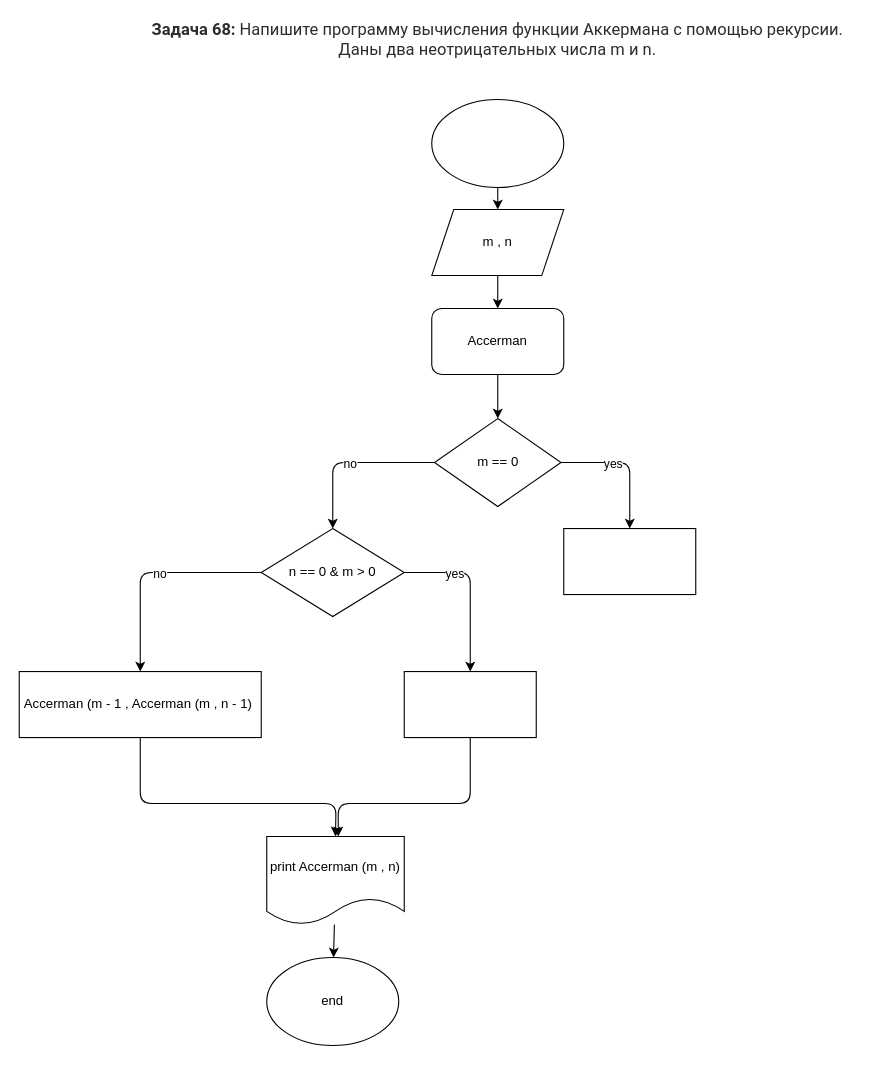
This 875x1065 diagram has some shape labels left out. The box of each missing label's shape, as (x1, y1, x2, y2) in pixels:
Accerman (m - 1 , 1): (403, 670, 536, 738)
return n + 1: (563, 527, 696, 595)
start: (431, 98, 564, 188)
